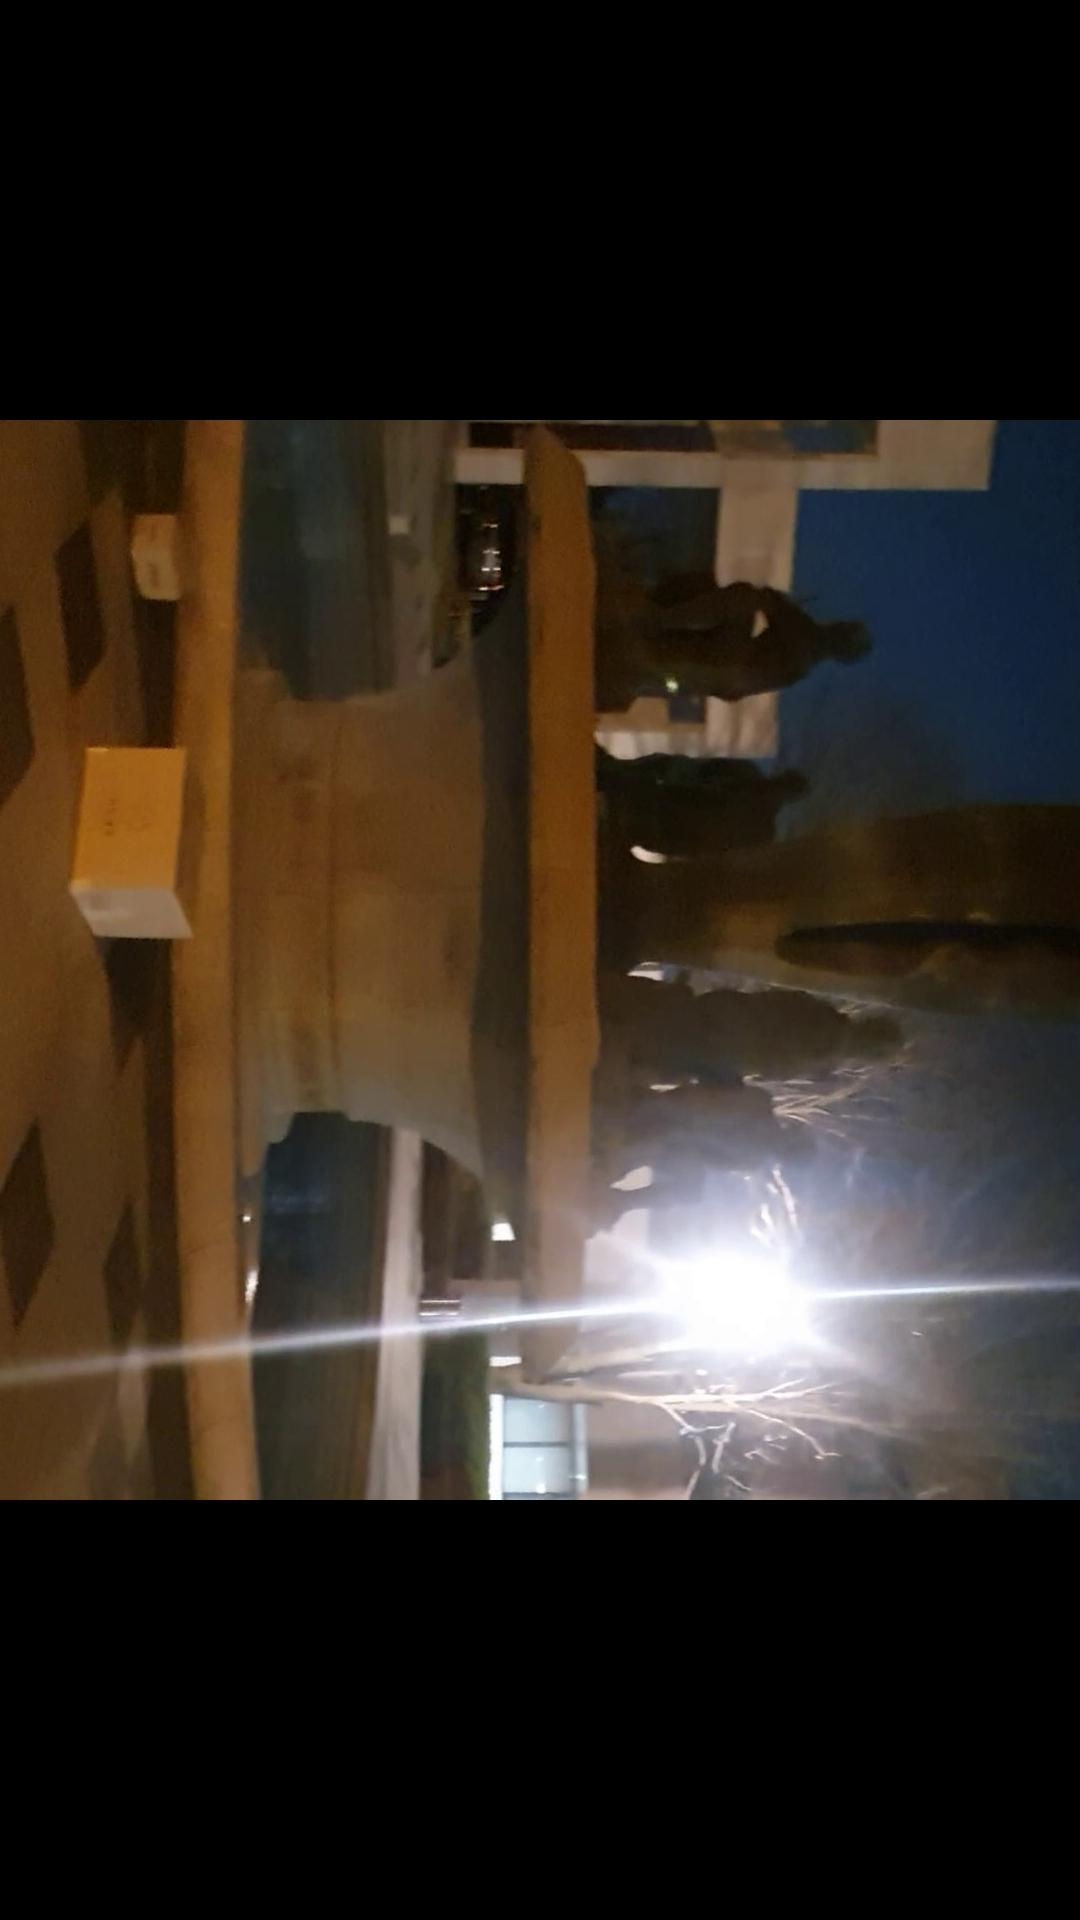Box: (65, 746, 210, 953), (117, 491, 200, 611)
